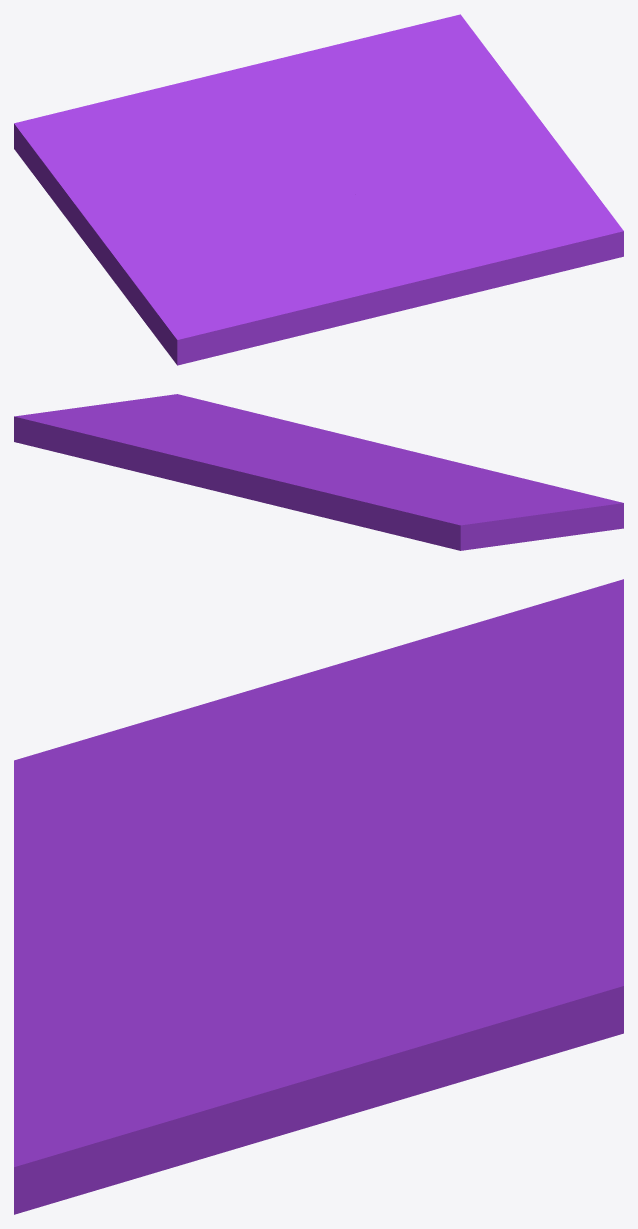
File: Window_136_chunks.fbx
3 renders of one model, top to bottom at view 1: azimuth 30°, elevation 25°; view 2: azimuth 150°, elevation 25°; view 3: azimuth 270°, elevation 25°, orthographic. The views are drawn at different scales.
Visible parts, largest first — view 1: Window_136_2, Window_136_0, Window_136_3; view 2: Window_136_3, Window_136_2, Window_136_0; view 3: Window_136_2, Window_136_3, Window_136_0.
Part boxes in pixels (x1,y1,x2,y2): Window_136_2: (326, 14, 623, 287); Window_136_0: (92, 180, 495, 365); Window_136_3: (14, 47, 328, 243); Window_136_3: (146, 448, 543, 550); Window_136_2: (14, 394, 317, 477); Window_136_0: (306, 425, 623, 539); Window_136_2: (14, 865, 623, 1214); Window_136_3: (307, 579, 623, 880); Window_136_0: (14, 671, 314, 1049).
Bounding box in the file's own units: 1838 × 482 × 1165.
